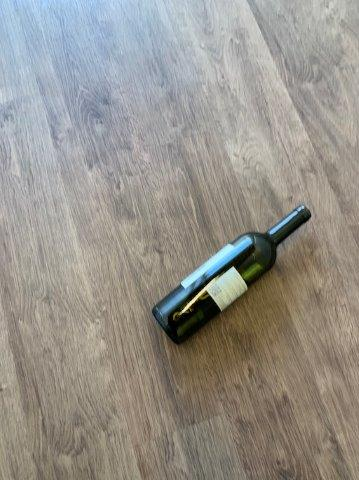botolkaca: (152, 204, 314, 346)
